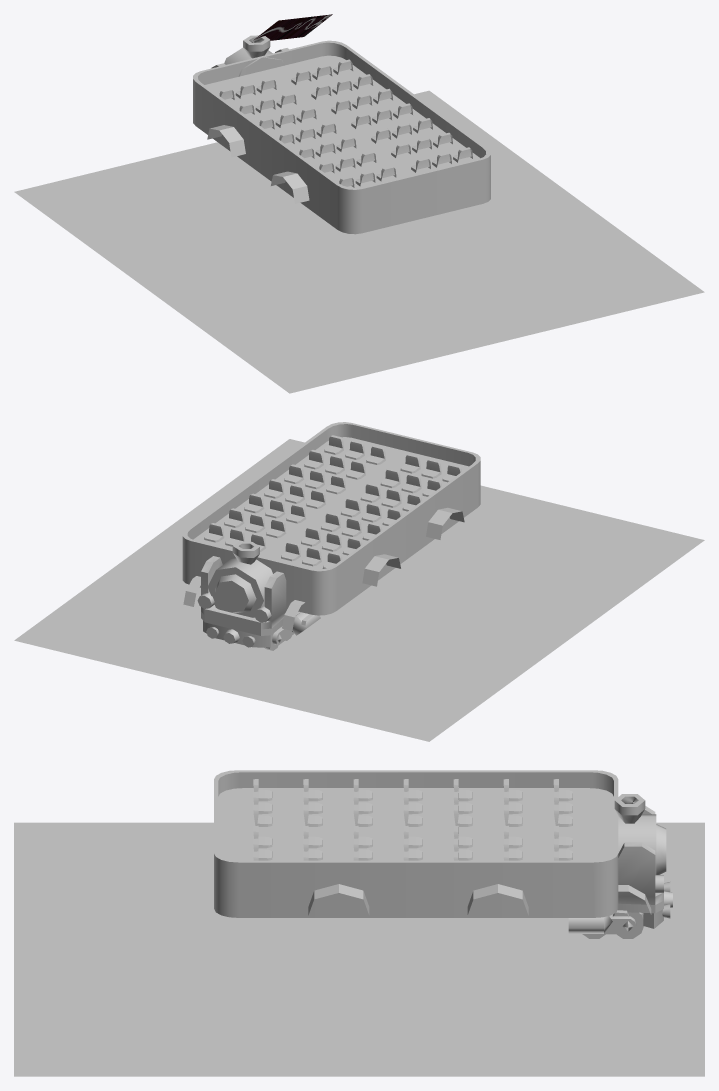
The model's file is Train_Seats_Final.fbx.
The picture shows the model from 3 angles, top to bottom: view 1: azimuth 30°, elevation 25°; view 2: azimuth 150°, elevation 25°; view 3: azimuth 270°, elevation 25°; orthographic projection. The views are drawn at different scales.
Visible parts, largest first — view 1: Background_Plane, Train_Body_01, Train_Ground, train_smoke_png, train-locomotive-c.008, Train_Wheels_03, Train_Wheels_02; view 2: Background_Plane, Train_Body_01, Train_Ground, train-locomotive-c.008, train-locomotive-c.012, Train_Wheels_01, Train_Wheels_02, Train_Wheels_03; view 3: Background_Plane, Train_Body_01, Train_Ground, train-locomotive-c.008, train-locomotive-c.012, Train_Wheels_02, Train_Wheels_03, wheels-front.004.
Boxes of the visible parts, box(x1,y1,x2,y2) form: Background_Plane: box(14, 90, 704, 393); Train_Body_01: box(193, 40, 490, 234); Train_Ground: box(205, 55, 479, 187); train_smoke_png: box(253, 14, 332, 40); train-locomotive-c.008: box(224, 35, 284, 76); Train_Wheels_03: box(271, 171, 309, 203); Train_Wheels_02: box(207, 125, 245, 157); Background_Plane: box(14, 439, 704, 741); Train_Body_01: box(182, 422, 480, 615); Train_Ground: box(193, 437, 468, 569); train-locomotive-c.008: box(203, 541, 320, 647); train-locomotive-c.012: box(201, 556, 287, 635); Train_Wheels_01: box(183, 576, 312, 630); Train_Wheels_02: box(362, 554, 400, 586); Train_Wheels_03: box(426, 507, 464, 539); Background_Plane: box(14, 822, 704, 1076); Train_Body_01: box(214, 770, 618, 917); Train_Ground: box(218, 788, 613, 860); train-locomotive-c.008: box(568, 794, 672, 933); train-locomotive-c.012: box(618, 806, 663, 913); Train_Wheels_02: box(467, 884, 528, 915); Train_Wheels_03: box(308, 884, 369, 915); wheels-front.004: box(582, 912, 643, 938).
Size of the model in its own units: 2072 by 685 by 2381.
